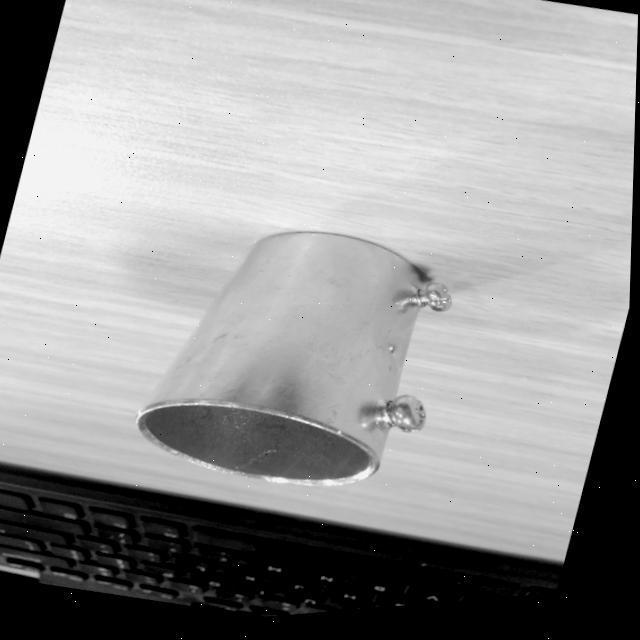Co_Nho: (127, 182, 493, 560)
